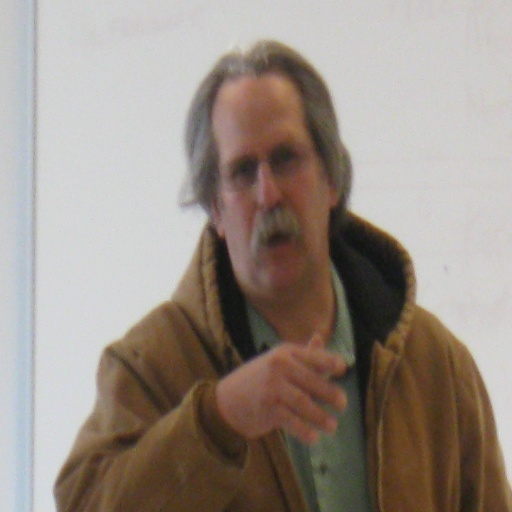hand: (218, 332, 362, 446)
